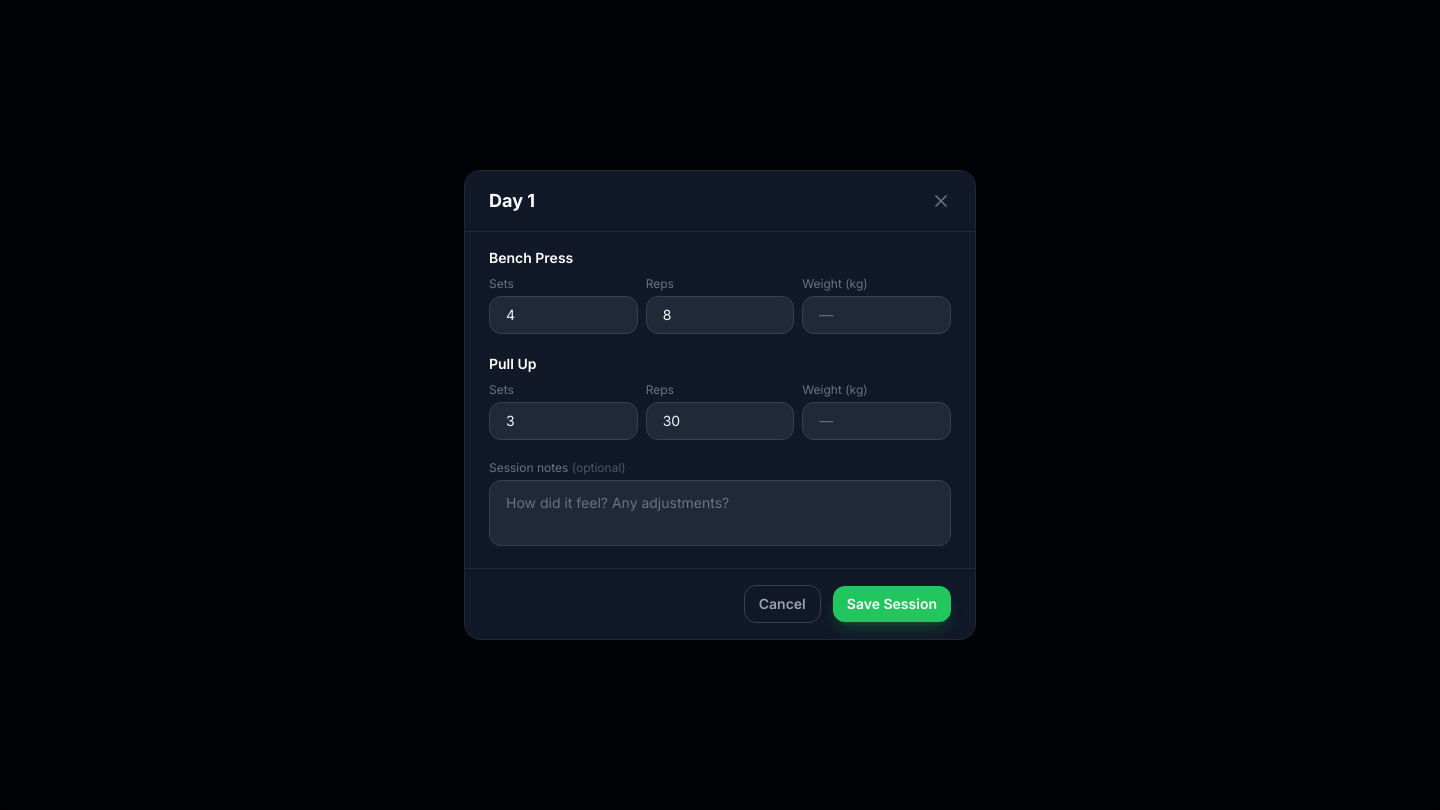
LogWorkoutModal › shows the reason a save failed rather than a fixed string
Click the button "Save Session" at (892, 604), box [833,586,951,622]
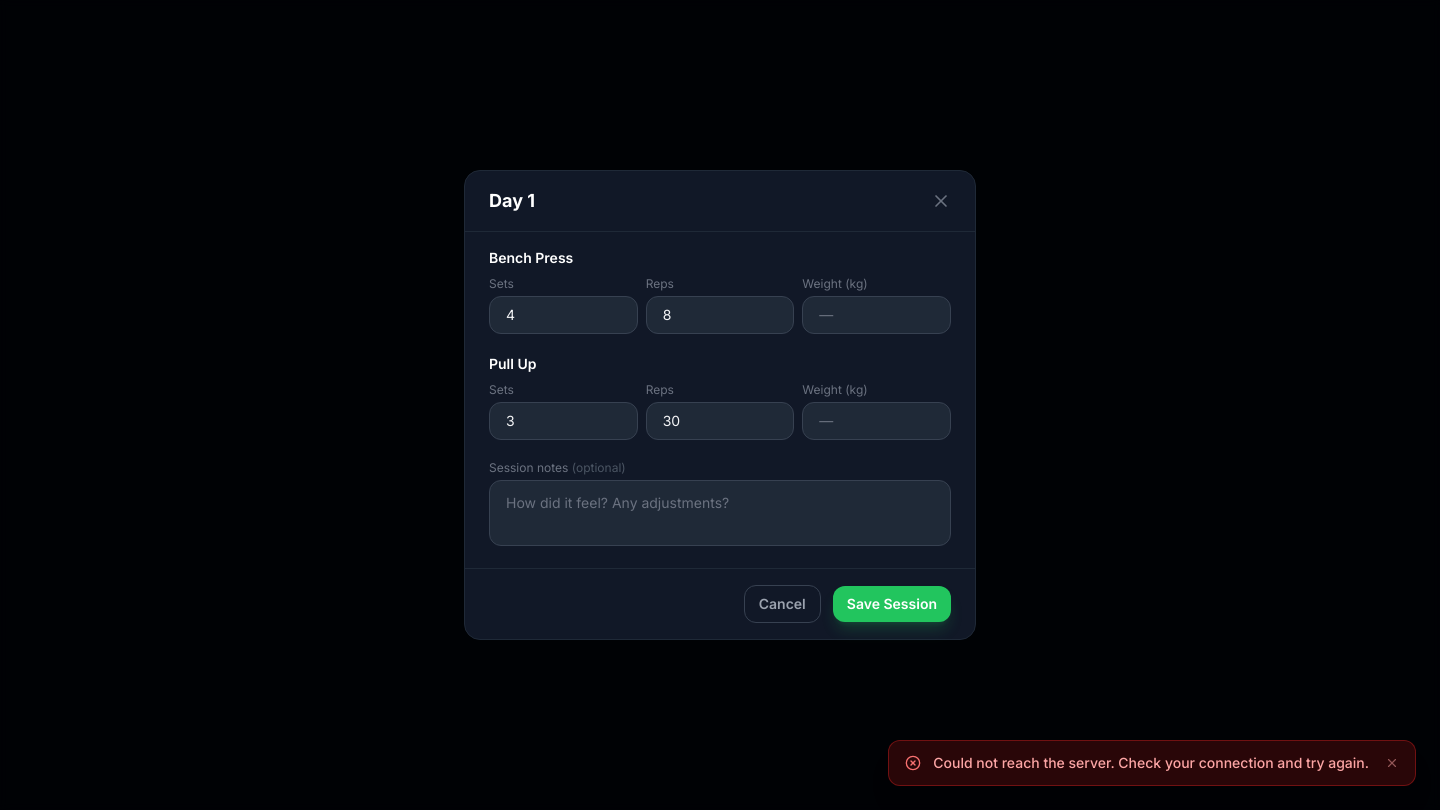
Now the text "Could not reach the server" is shown, box [933,754,1369,771]
